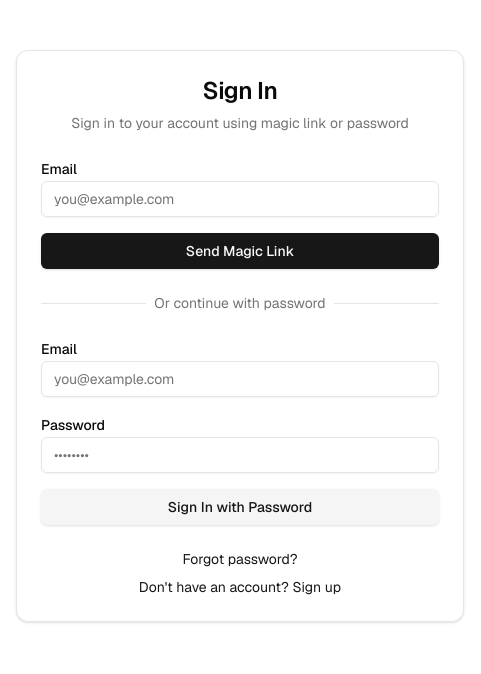
Test: LoginPage › should handle password login error from Supabase
This screenshot has width=481, height=674.
Step 1. Type "test@example.com" into the 2nd field labelled "Email" → (240, 379), box [41,361,439,397]
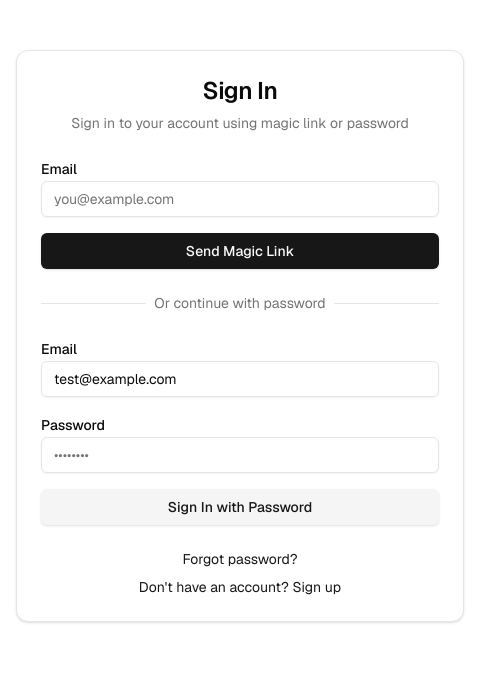
Step 2. Type "wrongpassword" into the password field labelled "Password" → (240, 455), box [41,437,439,473]
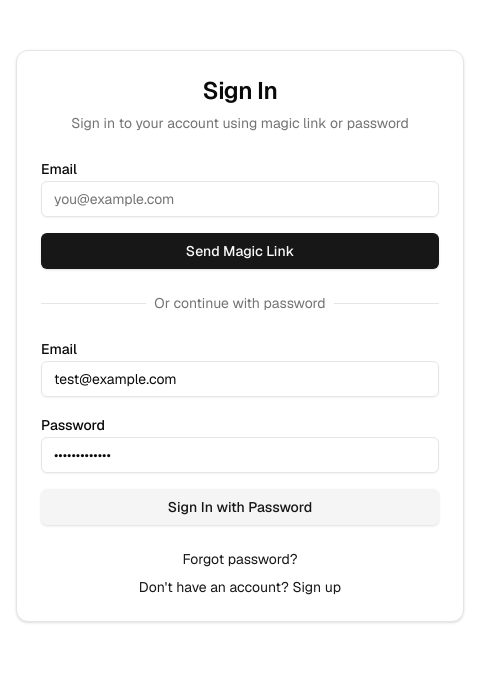
Step 3. Click the button "Sign In with Password" → (240, 507), box [41,489,439,525]
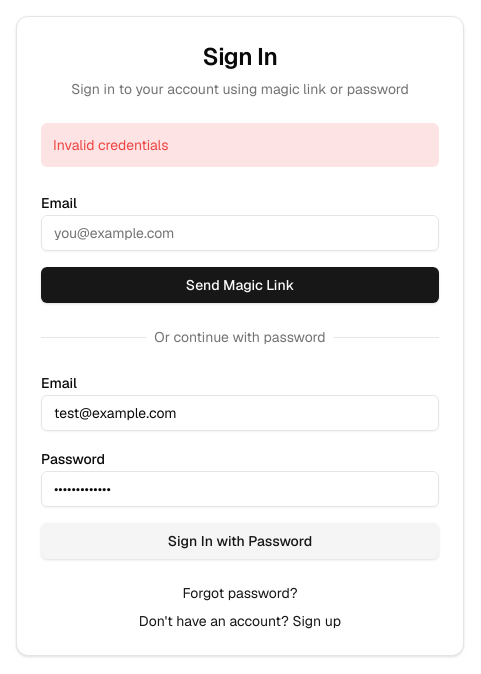
Check: the text "Invalid credentials" is shown, box [41,123,439,167]
